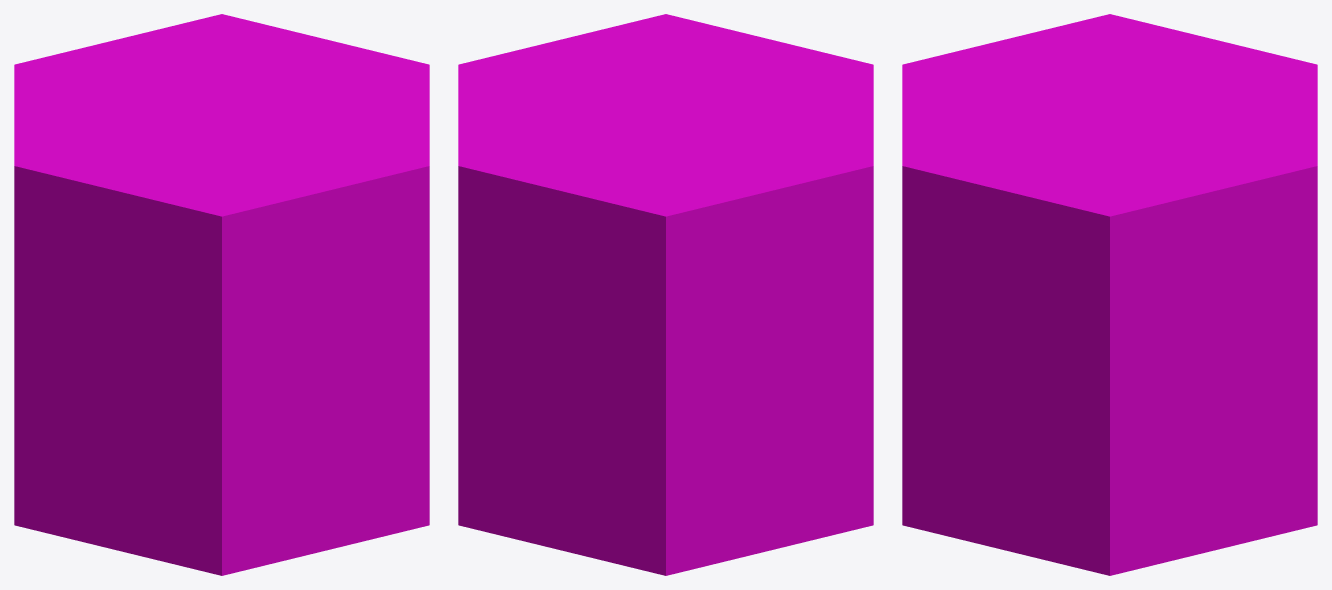
Rendered from GB_Storehouse.fbx.
The picture shows the model from 3 angles, left to right: view 1: azimuth 30°, elevation 25°; view 2: azimuth 150°, elevation 25°; view 3: azimuth 270°, elevation 25°; orthographic projection.
Visible parts, largest first — view 1: Storehouse; view 2: Storehouse; view 3: Storehouse.
Part boxes in pixels (box(x1,y1,x2,y2)): Storehouse: box(14, 14, 429, 575); Storehouse: box(458, 14, 873, 575); Storehouse: box(902, 14, 1317, 575).
Bounding box in the file's own units: 200 × 165 × 173.
